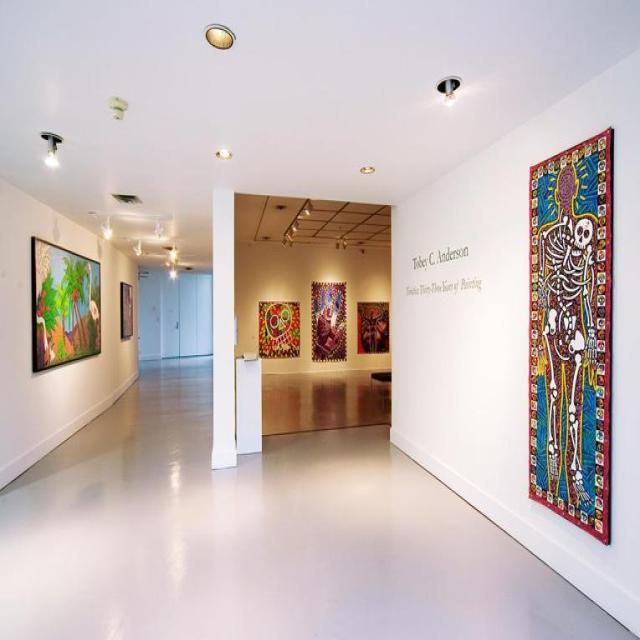cupboard: (137, 266, 213, 360)
lamps: (39, 132, 63, 168)
light: (205, 24, 234, 48)
windows: (527, 125, 614, 545), (310, 280, 346, 361), (120, 281, 133, 339)
